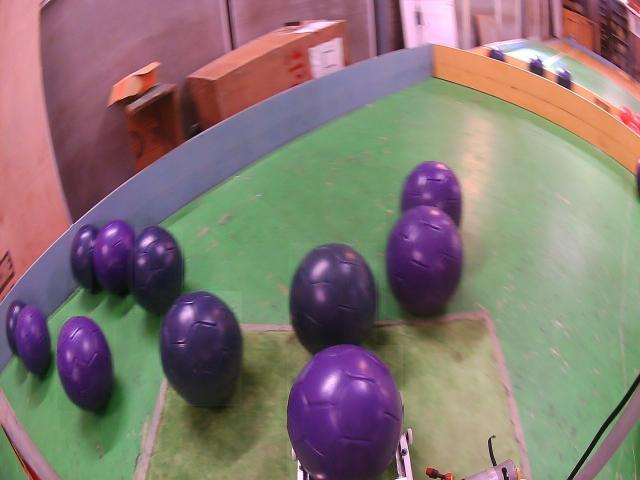jambhalya: (287, 345, 403, 480), (387, 206, 462, 316), (57, 316, 113, 411), (402, 162, 461, 224), (93, 220, 135, 295), (15, 305, 51, 376)
kaalyya: (290, 244, 377, 353), (160, 291, 242, 406), (127, 227, 183, 313), (70, 225, 100, 291), (6, 298, 26, 355)
